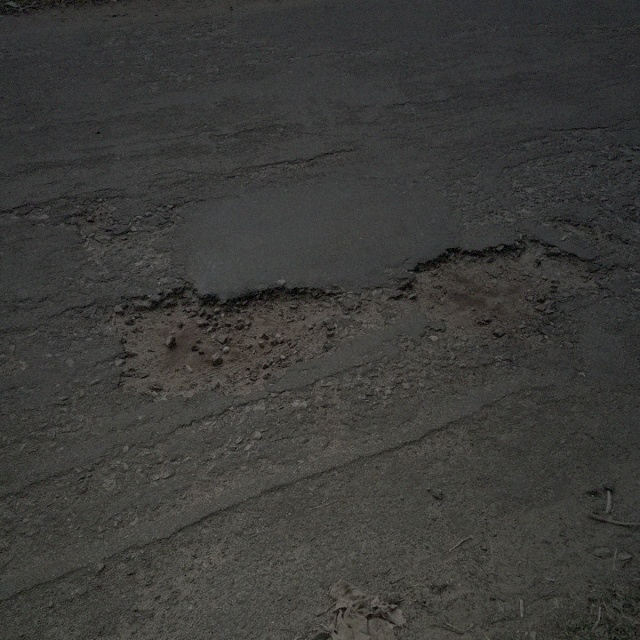pothole: (107, 280, 366, 402), (391, 233, 607, 341)
